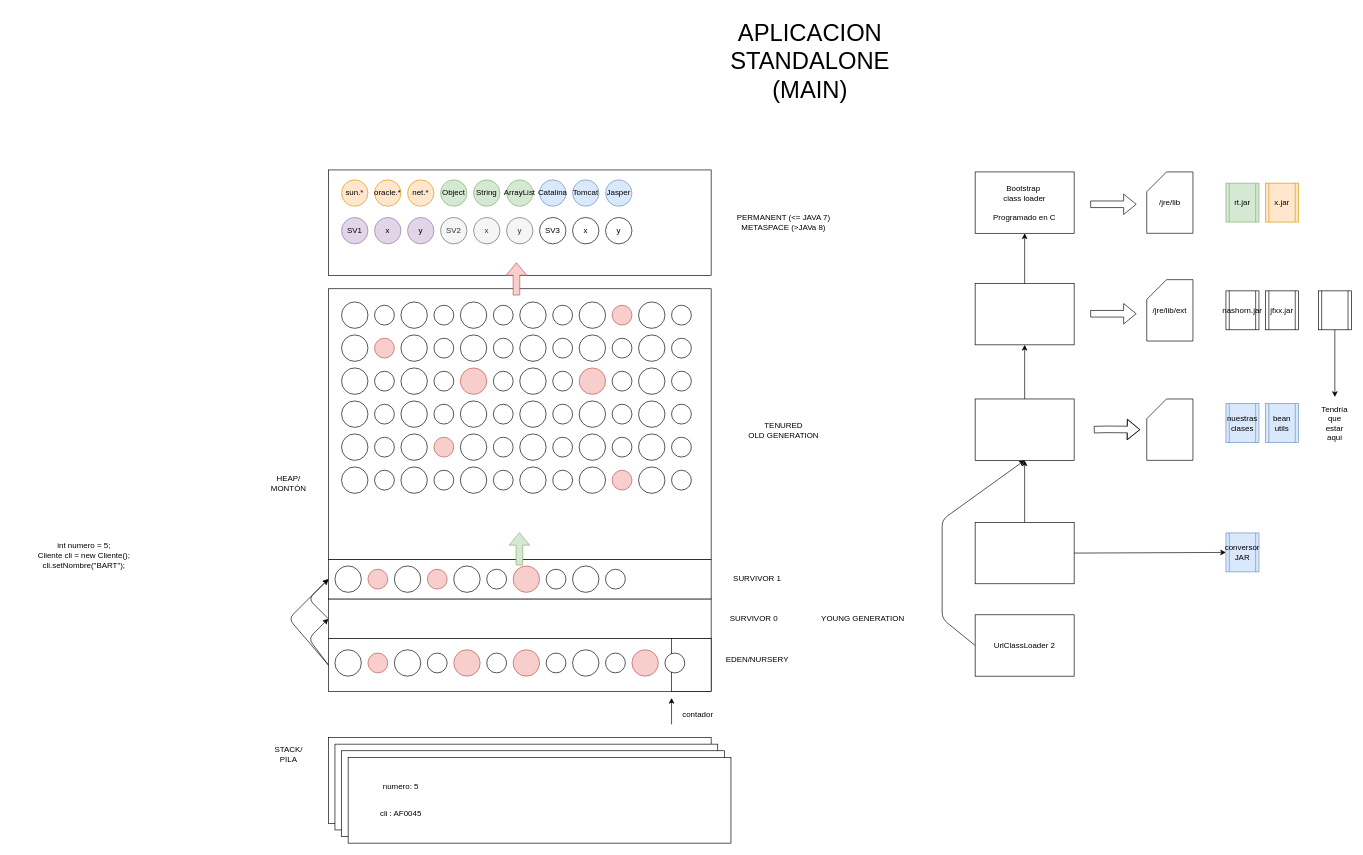
The diagram is 1363 pixels wide and 855 high, and some of its shapes have lost their labels. Here are the shapes that lost their labels. From the top down, the centre of each, then its label:
At (1024,314): "Extensions class loader".
At (1334,310): "http commons".
At (1024,429): "System/App class loader".
At (1169,429): "/classpath".
At (1024,553): "UrlClassLoader".
